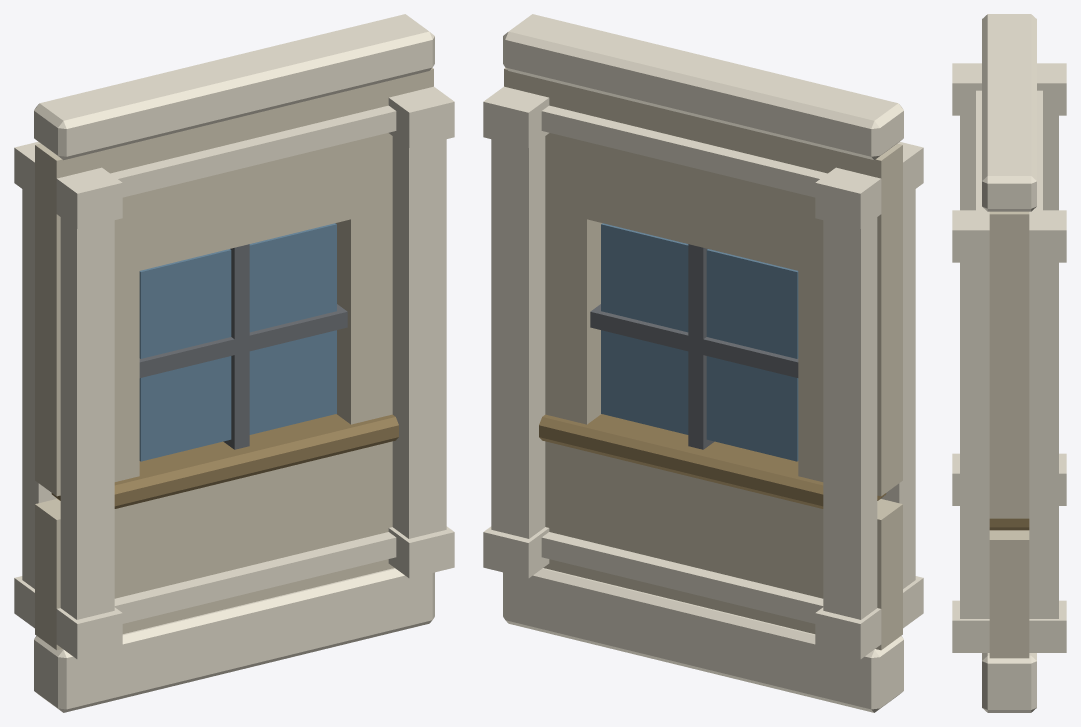
File: installation-bank-wall-window.glb
3 views of the same model, side by side, from view 1: azimuth 30°, elevation 25°; view 2: azimuth 150°, elevation 25°; view 3: azimuth 270°, elevation 25° (orthographic). The views are drawn at different scales.
Parts seen in each view (by area): view 1: head, spandrel, glass, plinth, cornice, pilaster, pilaster.002, jamb_r, jamb_l, sill, stone_course, stone_course.002 (+9 smaller); view 2: head, spandrel, glass, plinth, cornice, pilaster.001, pilaster.003, jamb_r, jamb_l, sill, stone_course.001, stone_course.003 (+9 smaller); view 3: cornice, pilaster.002, pilaster.003, jamb_r, spandrel, head, plinth, capital.007, capital.006, pilaster, pilaster.001, capital.002 (+10 smaller).
Part boxes in pixels (x1,y1,x2,y2): head: (35,68,433,290); spandrel: (35,441,394,650); glass: (139,223,336,461); plinth: (34,568,434,712); cornice: (34,14,434,160); pilaster: (60,217,114,619); pilaster.002: (392,136,446,538); jamb_r: (335,209,392,424); jamb_l: (35,271,139,496); sill: (51,414,398,508); stone_course: (56,532,396,637); stone_course.002: (56,105,396,211); head: (504,68,902,290); spandrel: (543,441,902,650); glass: (601,223,798,461); plinth: (503,568,903,712); cornice: (503,14,903,160); pilaster.001: (823,217,877,619); pilaster.003: (491,136,545,538); jamb_r: (545,209,602,424); jamb_l: (798,271,902,496); sill: (539,414,886,508); stone_course.001: (541,532,881,637); stone_course.003: (541,105,881,211); cornice: (982,14,1036,211); pilaster.002: (960,262,989,618); pilaster.003: (1029,262,1058,618); jamb_r: (989,332,1029,518); spandrel: (989,530,1029,658); head: (989,211,1029,332); plinth: (982,653,1036,712); capital.007: (1029,210,1066,262); capital.006: (952,210,989,262); pilaster: (960,115,975,210); pilaster.001: (1043,115,1058,210); capital.002: (952,63,981,115).
Size of the model in its own units: 1 by 1.5 by 0.29.
